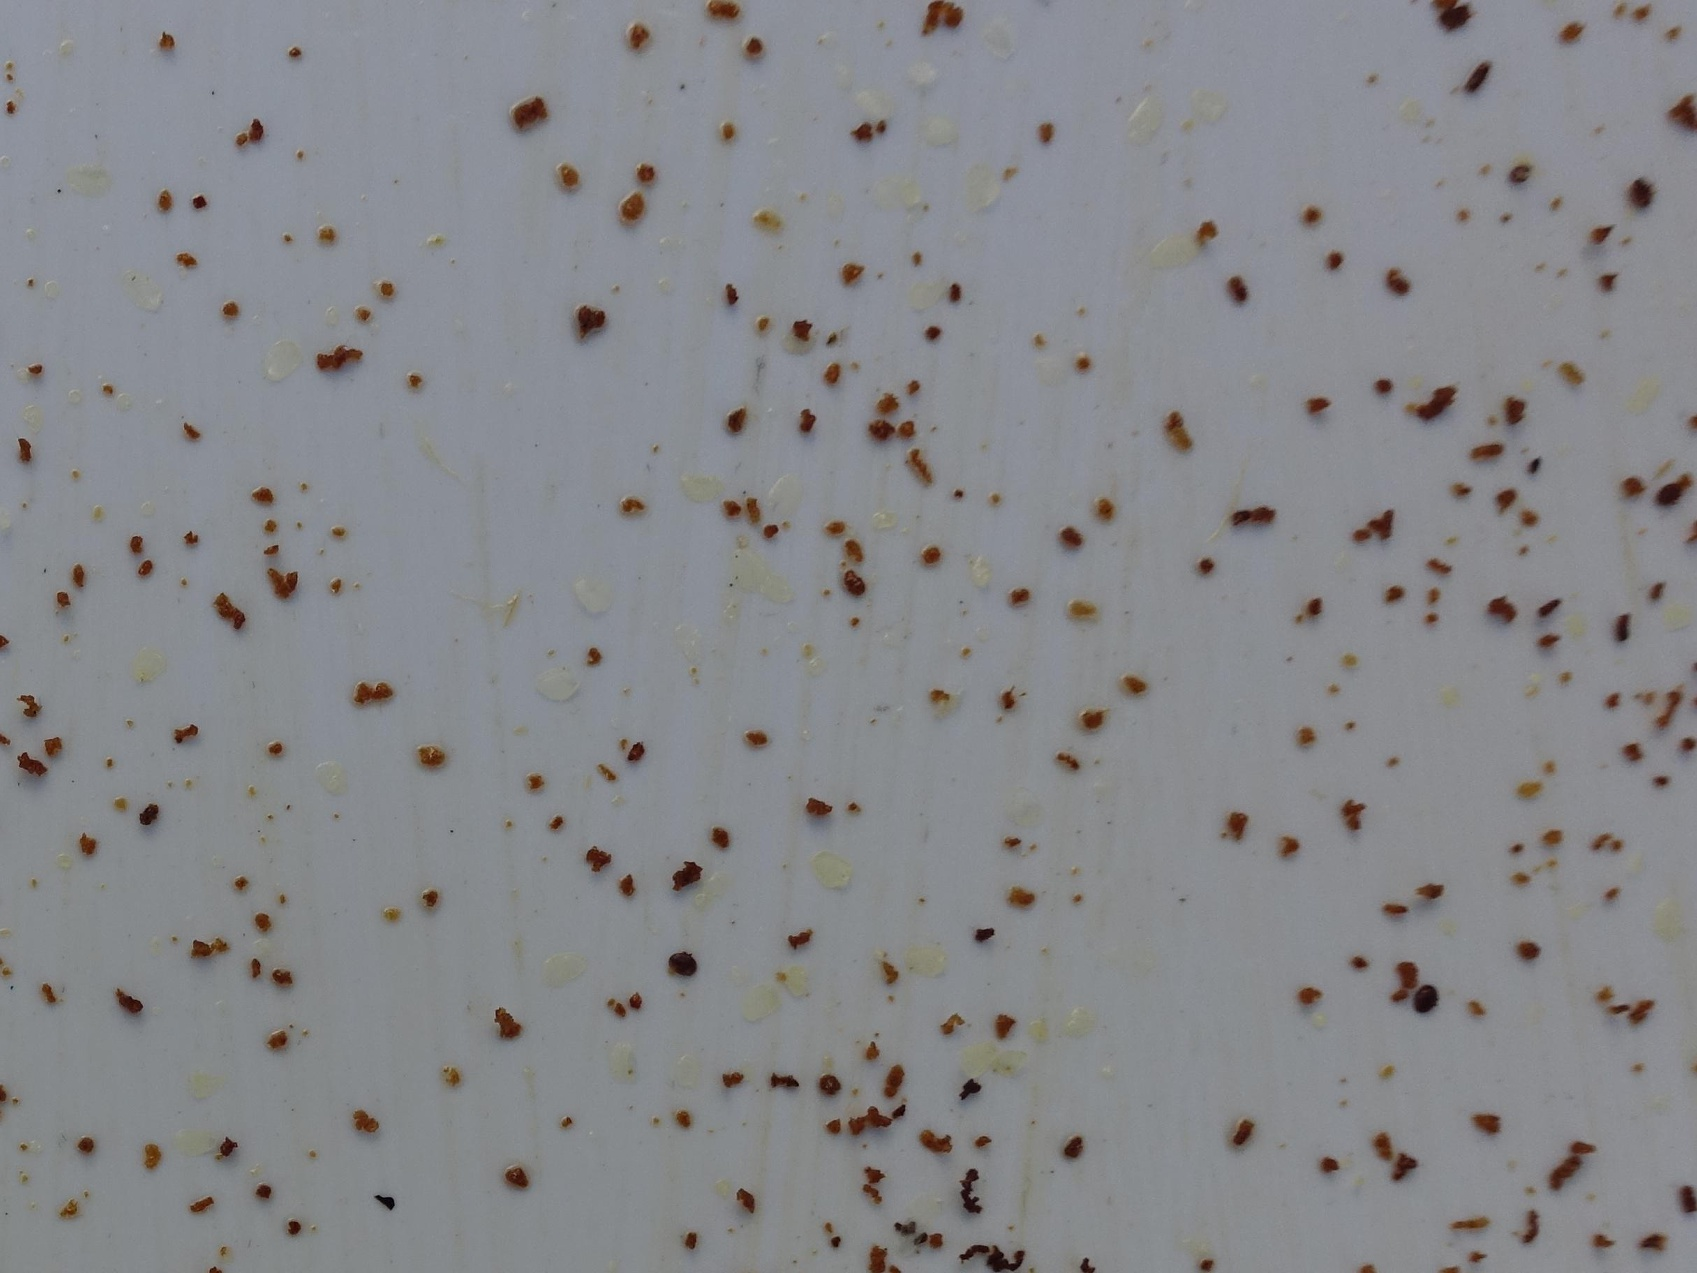Varroa: (1652, 477, 1690, 515), (673, 949, 694, 973), (1411, 987, 1432, 1008)
